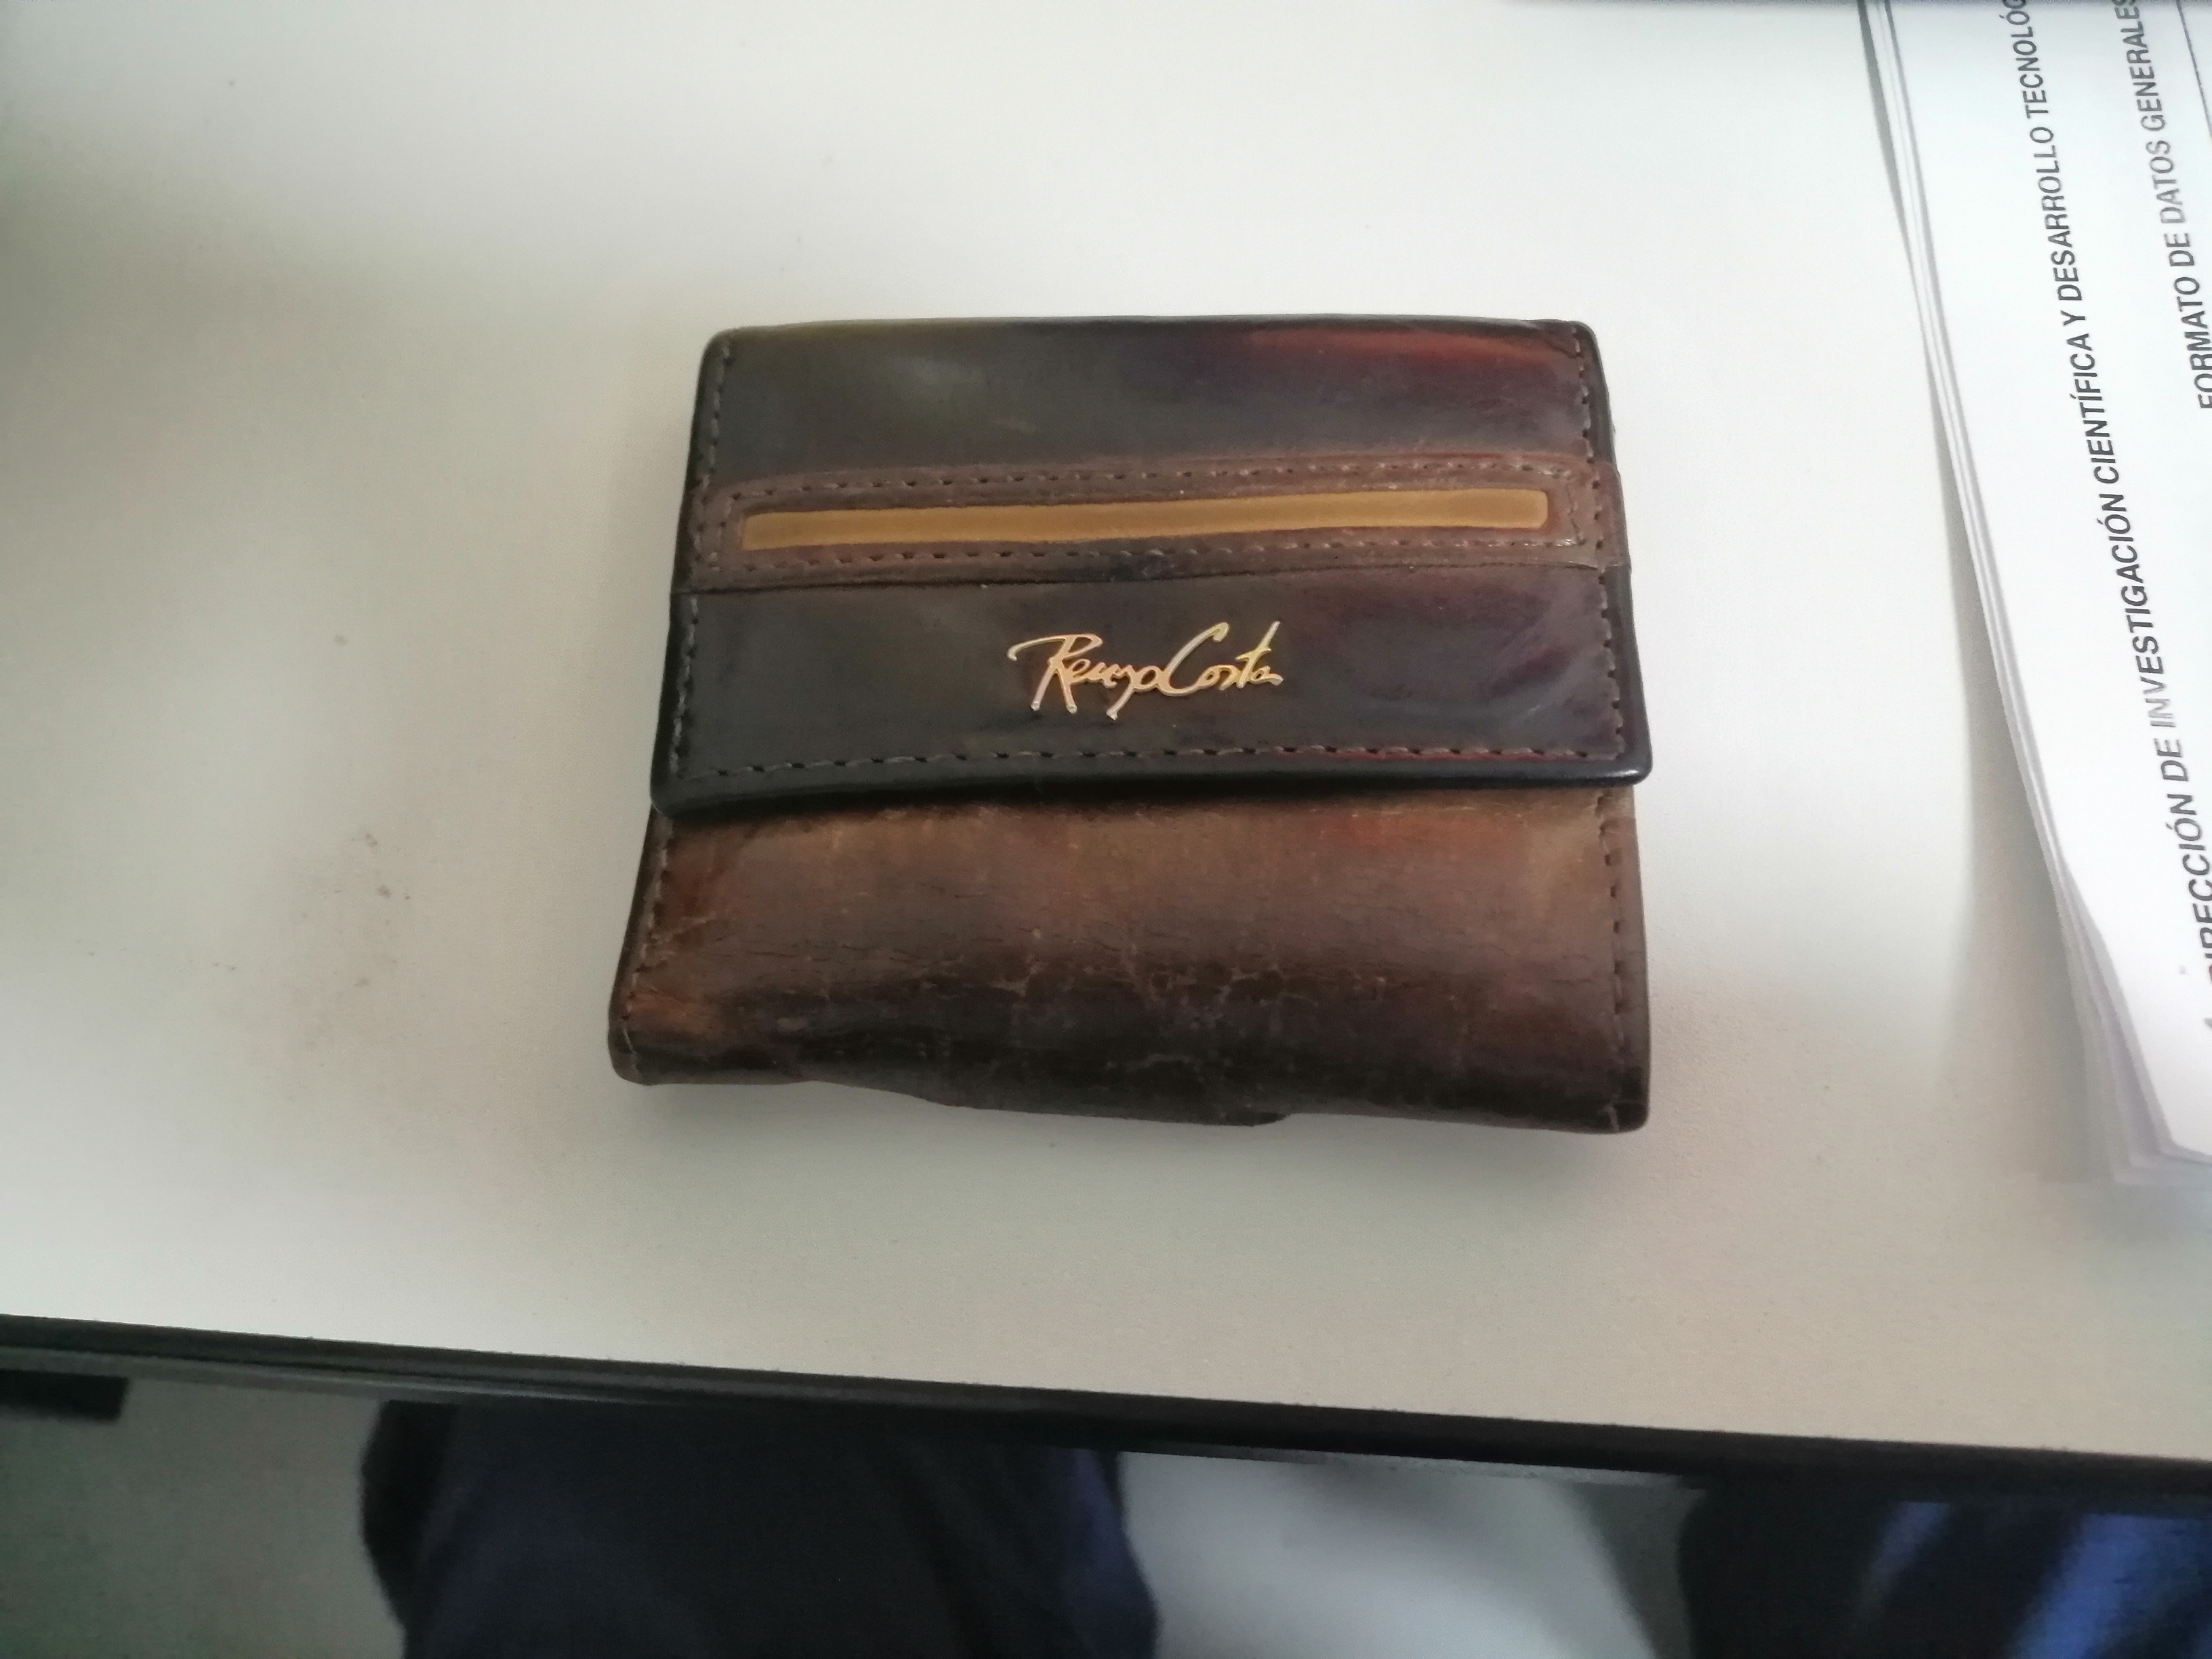monedero: (589, 296, 1686, 1157)
